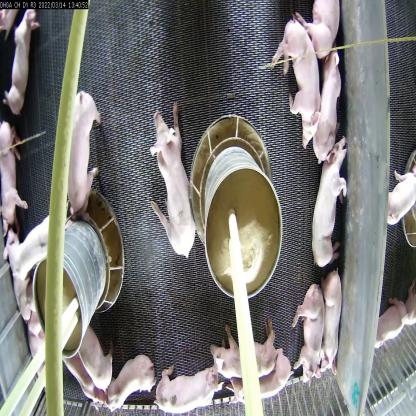Pig: (138, 90, 205, 267), (272, 17, 323, 150), (311, 140, 350, 279), (56, 84, 96, 209), (153, 350, 227, 416), (70, 321, 117, 406), (230, 356, 296, 412), (208, 329, 275, 384), (316, 36, 344, 162), (10, 217, 62, 284), (0, 122, 31, 234), (103, 348, 154, 415), (300, 277, 328, 384), (297, 0, 339, 64), (322, 271, 346, 367)
